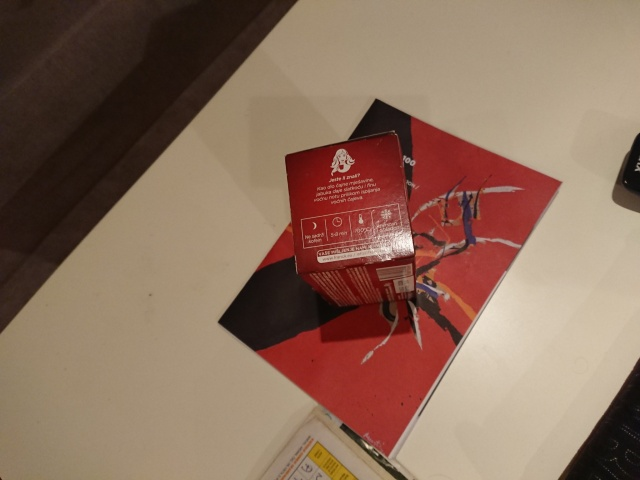Franck Apple Cinnamon Tea 60g: (281, 127, 419, 313)
